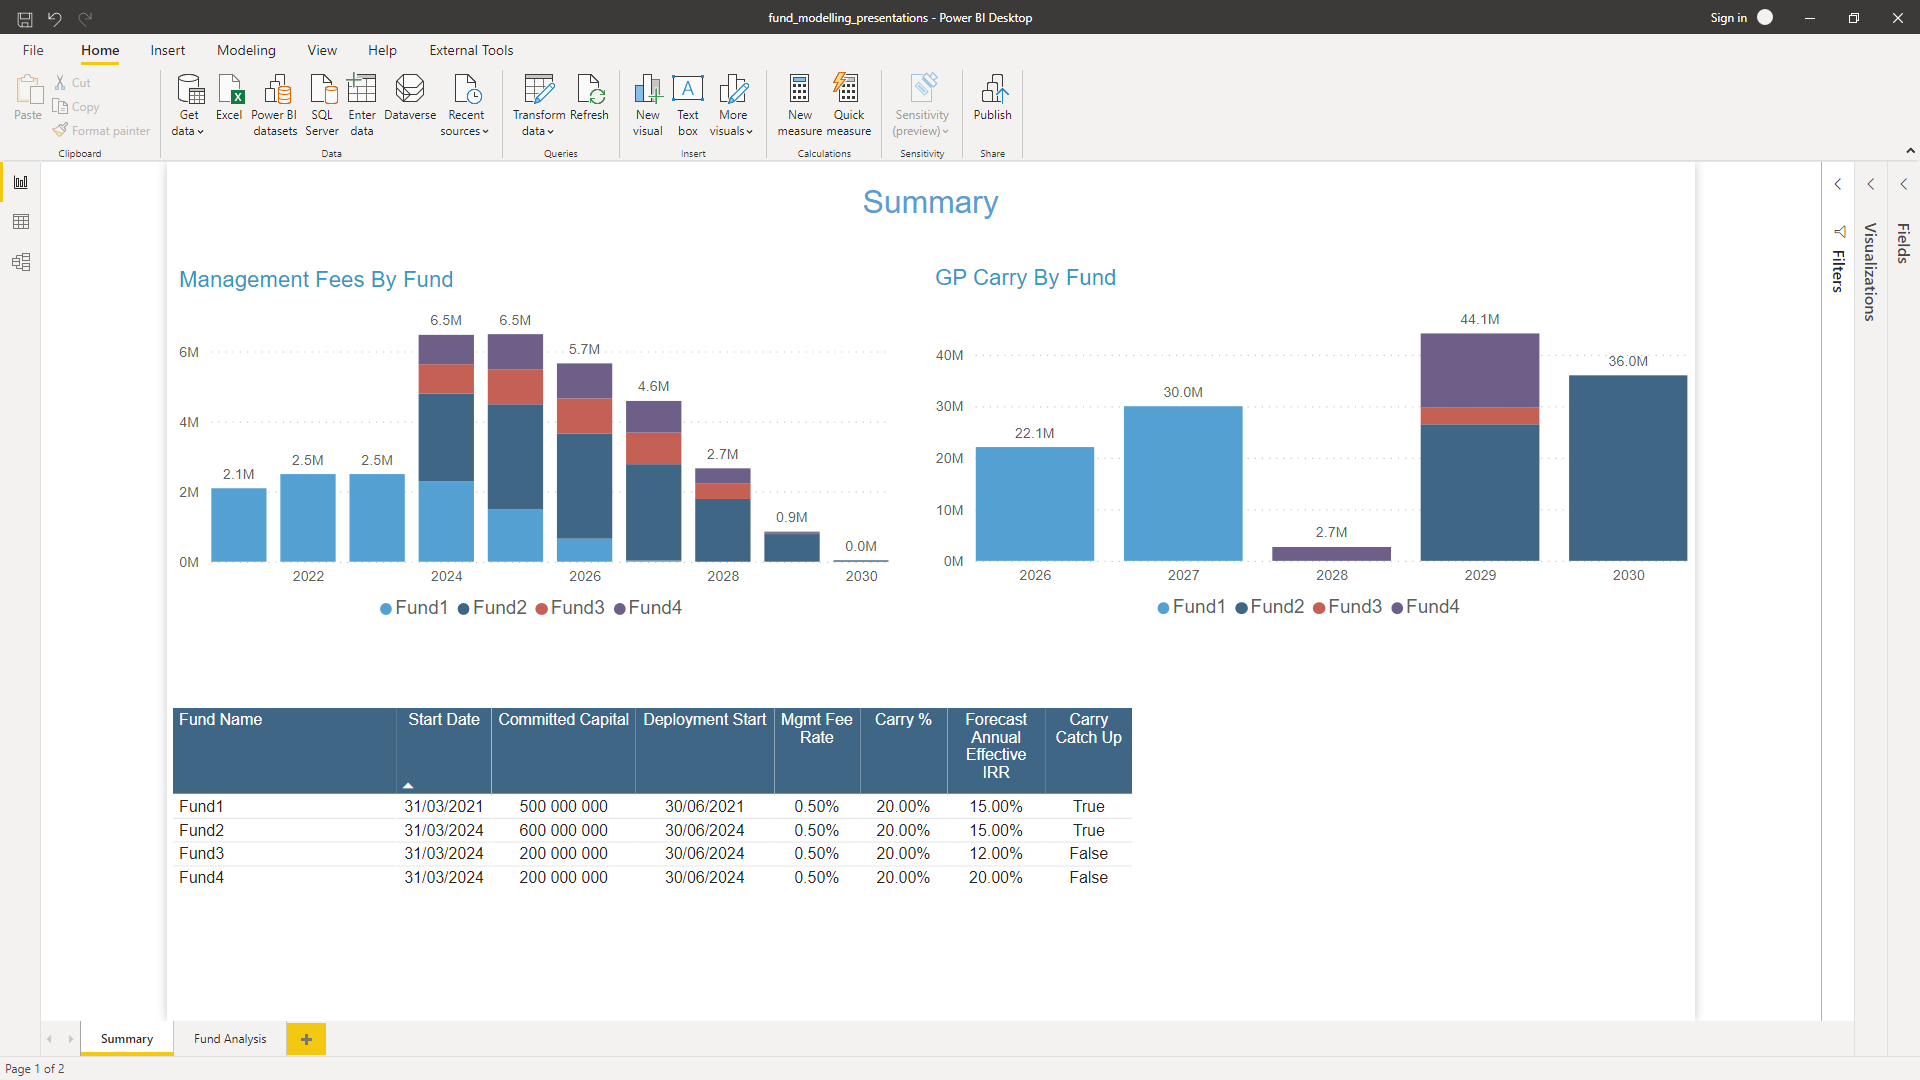

This screenshot's page, from the dashboard's own definition file:
{"tool":"powerbi","page":{"name":"Summary","canvas":[1280,720],"ordinal":0},"visuals":[{"type":"columnChart","title":"Management Fees By Fund","fields":{"Category":["Date Table.Year"],"Series":["Fund Names.Fund Name"],"Y":["Fund Schedules.Sum of Management Fees"]},"box":[5.4,87.6,604.8,307.3],"z":0},{"type":"columnChart","title":"GP Carry By Fund","fields":{"Category":["Date Table.Year"],"Y":["Date Table.Sum of GP Carry"],"Series":["Fund Names.Fund Name"]},"box":[639,86.6,641,307.6],"z":1000},{"type":"pivotTable","fields":{"Values":["Min(Fund Inputs.Start Date)","Sum(Fund Inputs.Committed Capital)","Min(Fund Inputs.Deployment Start Date)","Sum(Fund Inputs.Number Of Months In Deployment)","Sum(Fund Inputs.Length Of Deployment In Months)","Sum(Fund Inputs.Mgmt Fee Rate)","Sum(Fund Inputs.Carry %)","Sum(Fund Inputs.Annual Effective IRR)","Date Table.Carry Catch Up Selected Value"],"Rows":["Fund Inputs.fund_name"]},"box":[3.8,452.6,1268.7,254.5],"z":2000},{"type":"card","fields":{"Values":["Date Table.Title Summary"]},"box":[0,6.3,1280,55.3],"z":3000}]}

Visuals, with their boxes on the page's 1280x720 design canvas (x1, y1, x2, y2). These are canvas units, not pixel positions in the 1920x1080 screenshot, which may show the page scaled, cropped or inside an application window:
"Management Fees By Fund" columnChart: 5:88:610:395
"GP Carry By Fund" columnChart: 639:87:1280:394
pivotTable - Min(Fund Inputs.Start Date) x Sum(Fund Inputs.Committed Capital): 4:453:1272:707
card - Date Table.Title Summary: 0:6:1280:62
